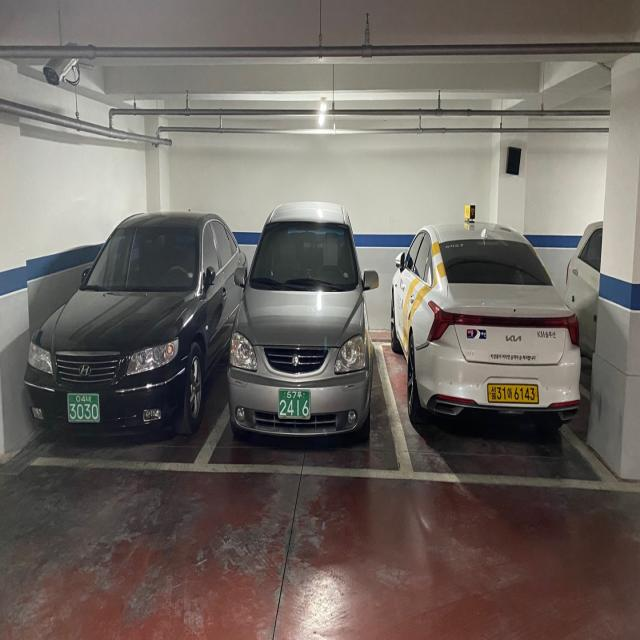occupied: (28, 209, 224, 441), (395, 217, 585, 440), (231, 202, 376, 446)
